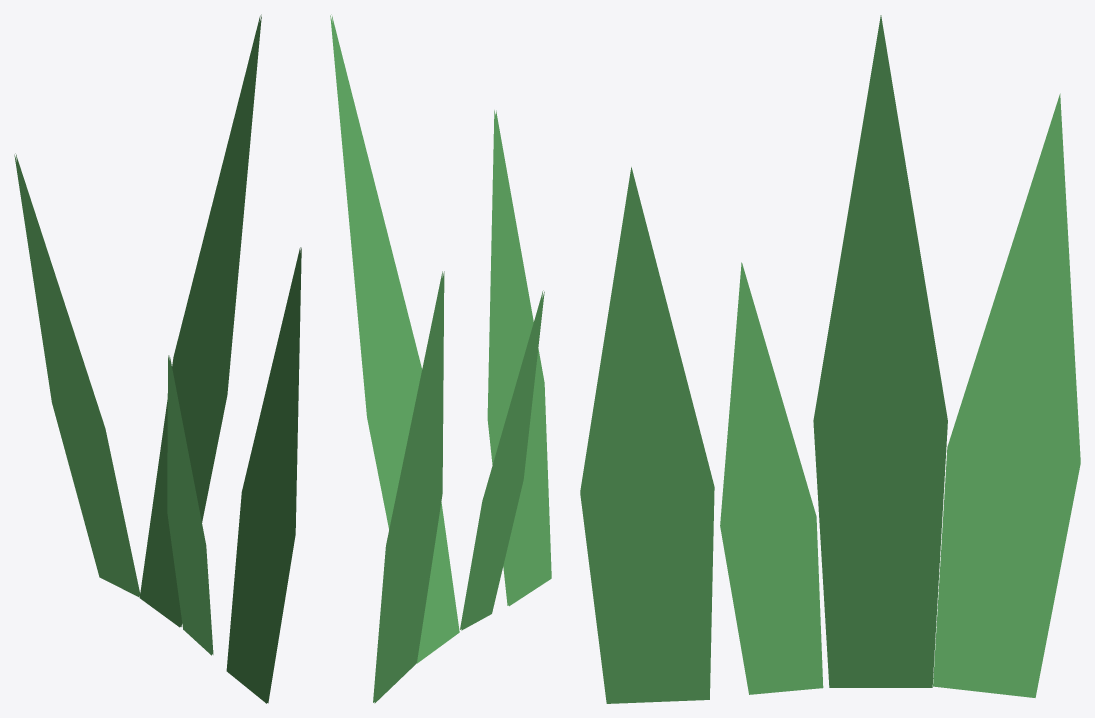
The model's file is GrassA.fbx.
The picture shows the model from 3 angles, left to right: view 1: azimuth 30°, elevation 25°; view 2: azimuth 150°, elevation 25°; view 3: azimuth 270°, elevation 25°; orthographic projection. The views are drawn at different scales.
Visible parts, largest first — view 1: GrassA; view 2: GrassA; view 3: GrassA.
Boxes of the visible parts, x1,y1,x2,y2 form: GrassA: (14, 14, 301, 703); GrassA: (330, 14, 551, 703); GrassA: (580, 15, 1080, 703).
Size of the model in its own units: 0.4891 by 1.54 by 0.9314.
